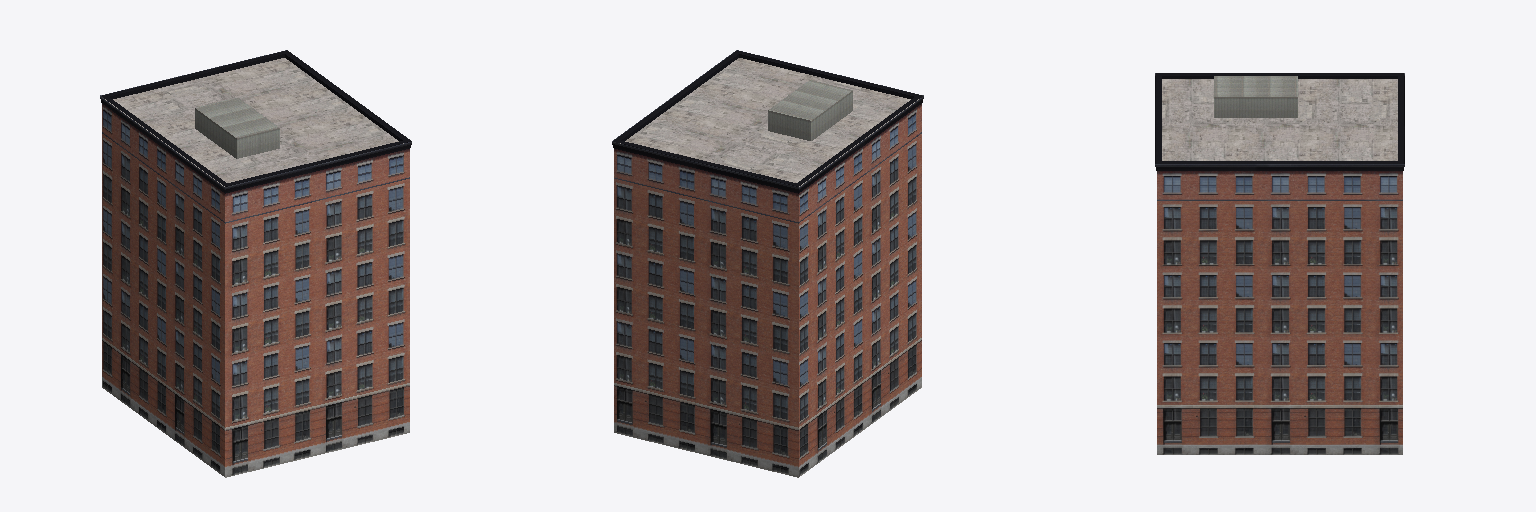
3 views of the same model, side by side, from view 1: azimuth 30°, elevation 25°; view 2: azimuth 150°, elevation 25°; view 3: azimuth 270°, elevation 25° (orthographic).
Visible parts, largest first — view 1: building_20; view 2: building_20; view 3: building_20.
Boxes of the visible parts, x1=… form: building_20: x1=100, y1=50, x2=411, y2=477; building_20: x1=612, y1=50, x2=923, y2=477; building_20: x1=1155, y1=73, x2=1404, y2=454.
Bounding box in the file's own units: 59.05 × 92.87 × 68.2.
1 materials, 1 textured.